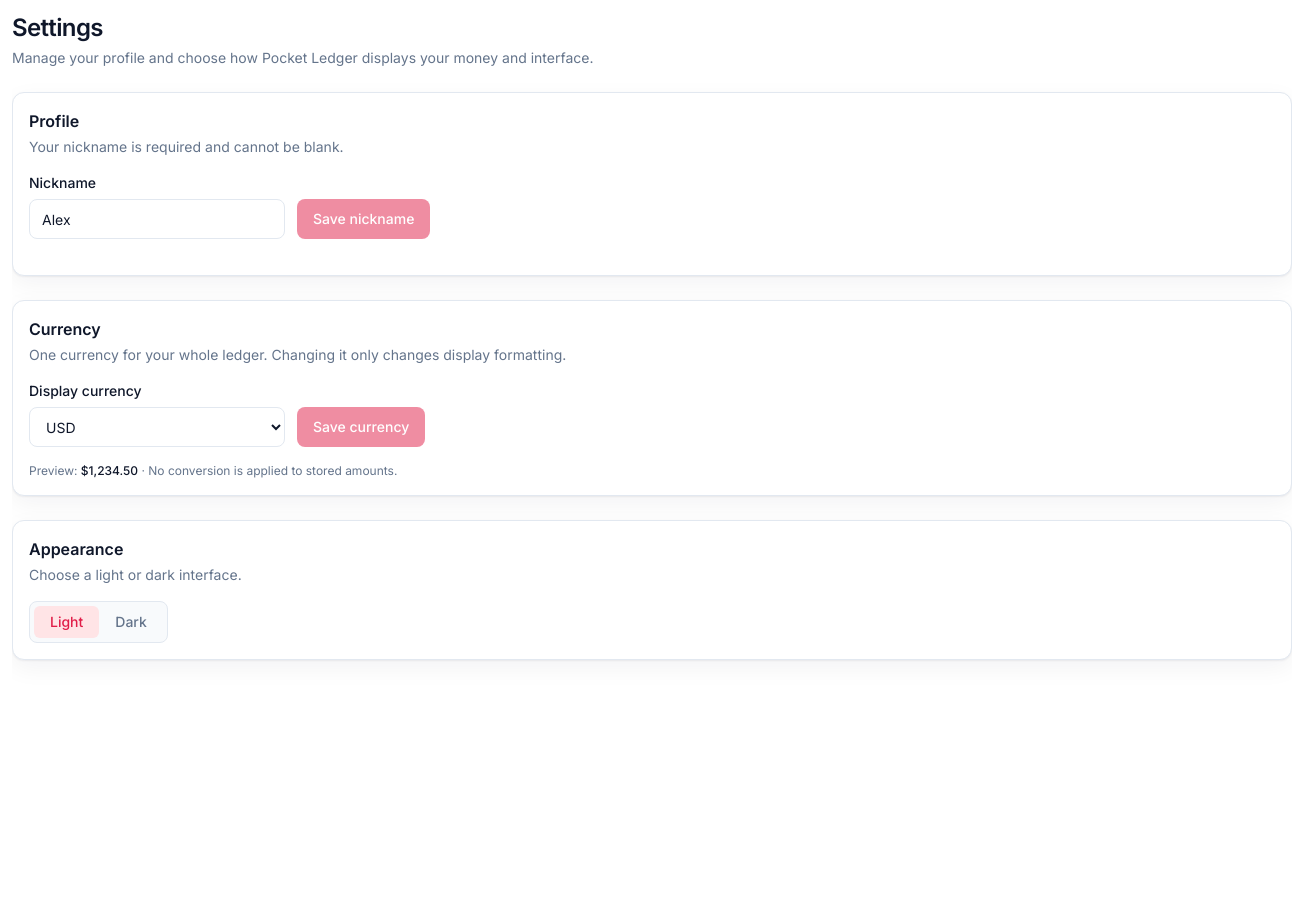
Scenario: SettingsPage nickname › saves a normalized nickname
The image size is (1292, 912).
Replace the text in the field labelled "Nickname" with "  Alex   Morgan  ". click: x=157, y=219
box: left=29, top=199, right=285, bottom=239
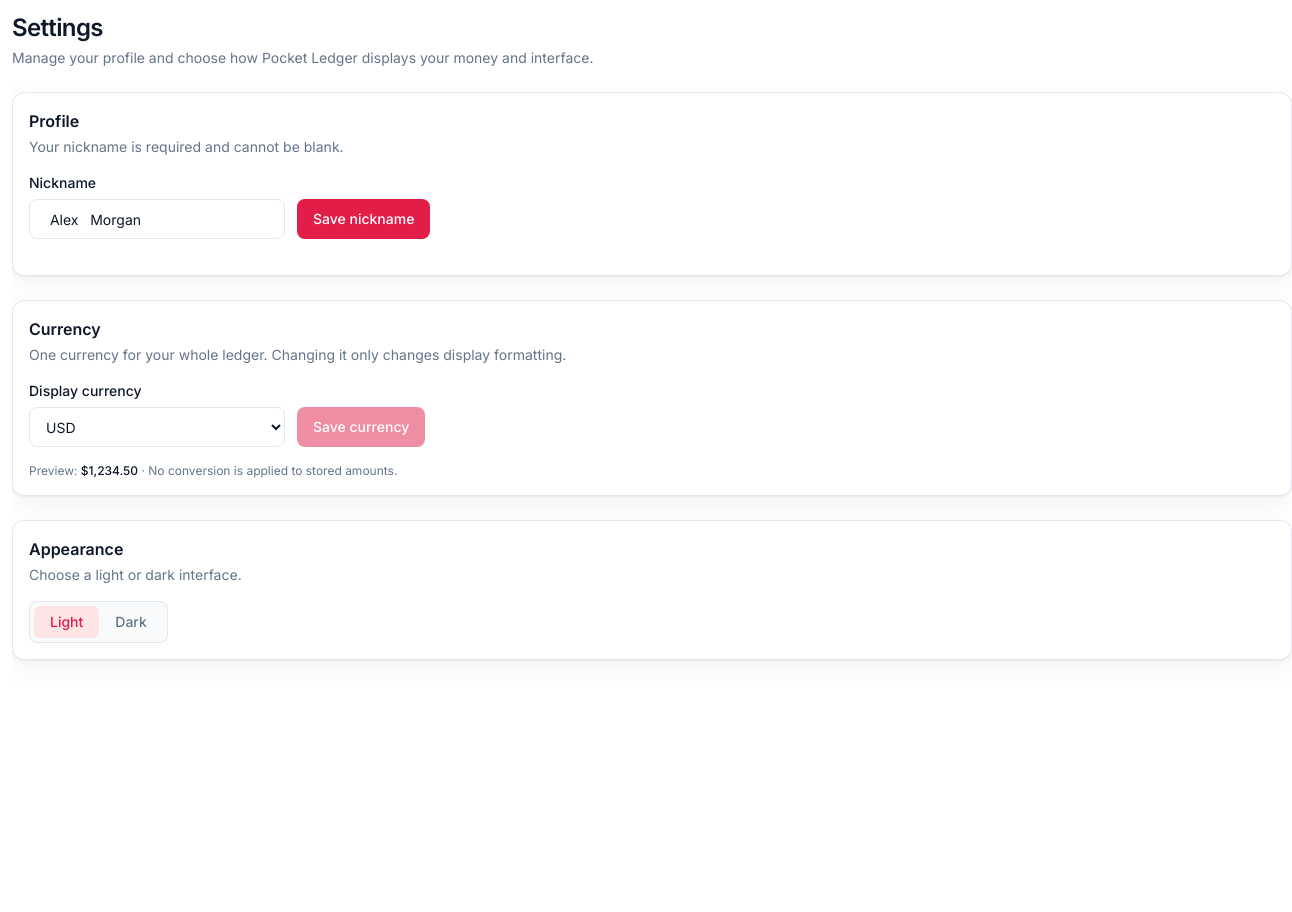
Click the button "Save nickname". click: x=364, y=219
box: left=297, top=199, right=430, bottom=239
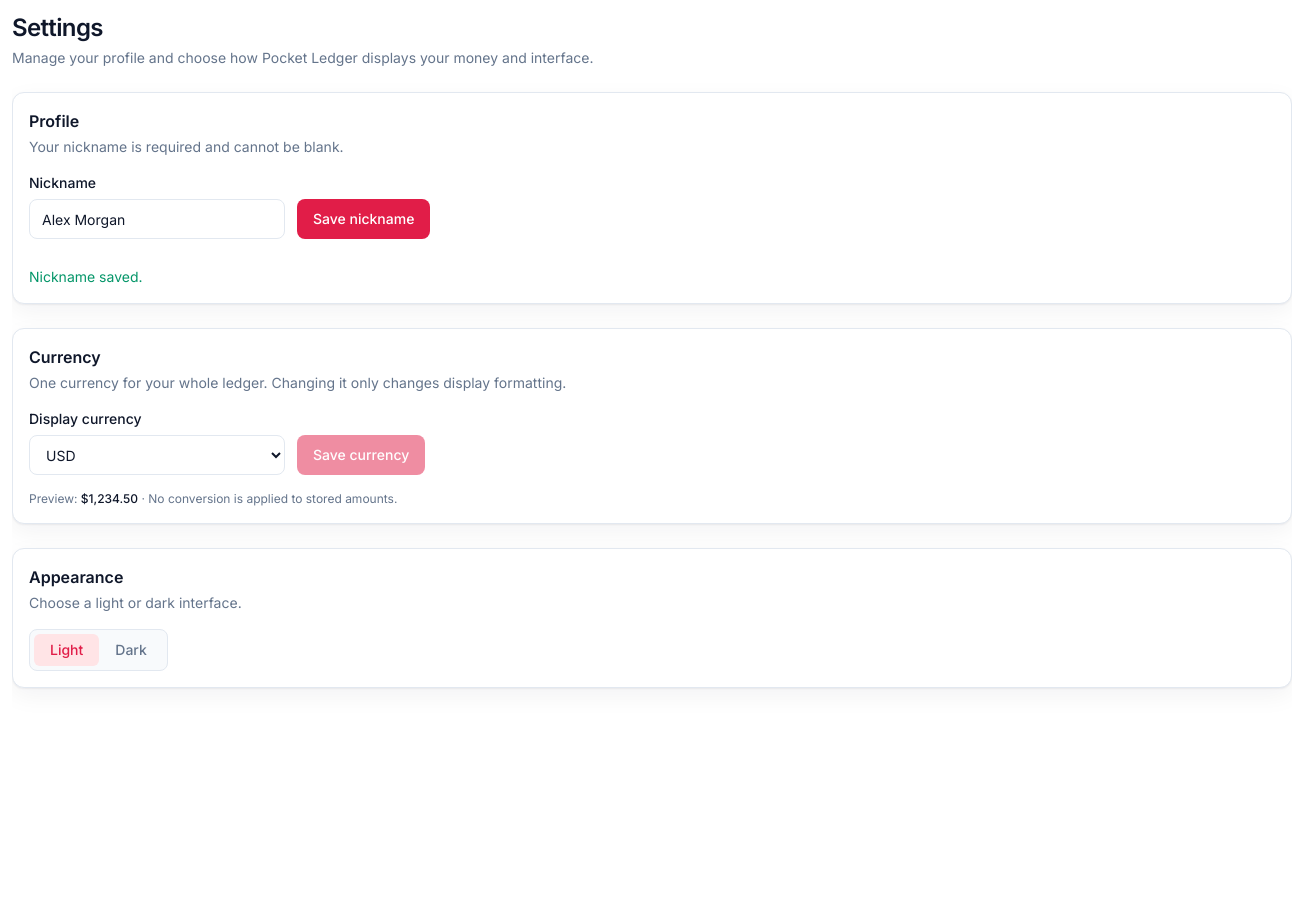
expect the text "Nickname saved." is shown: met, box left=29, top=268, right=142, bottom=285
